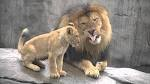lion: (17, 26, 82, 80), (71, 7, 114, 81)
